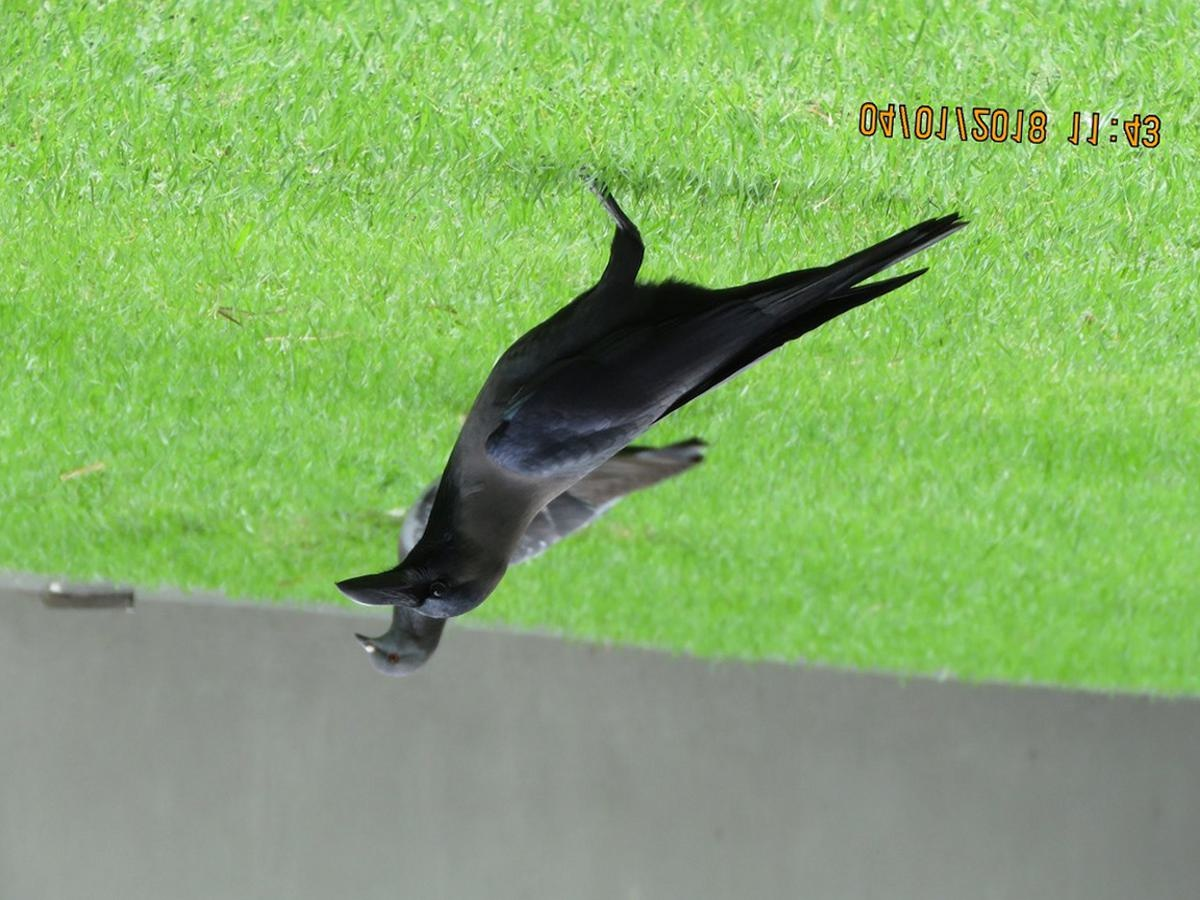crow: (333, 172, 976, 619)
